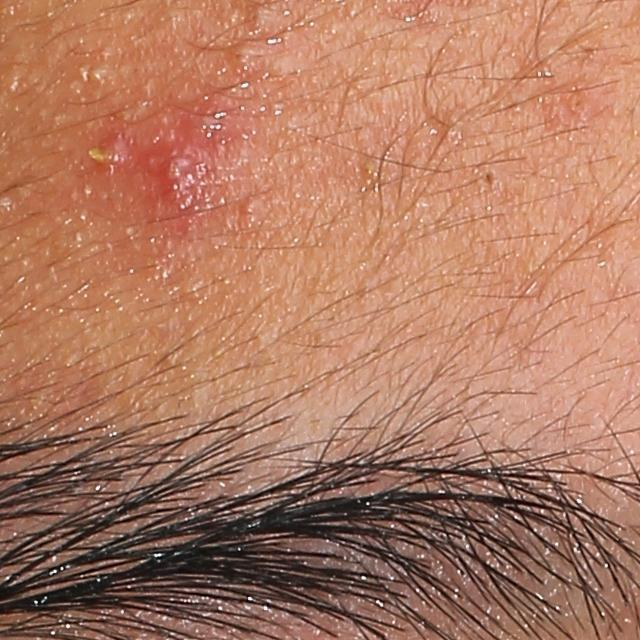comedo: (536, 81, 604, 140), (227, 38, 260, 71), (81, 63, 106, 93), (477, 165, 504, 190), (237, 198, 261, 217)
pustule: (152, 140, 217, 225), (86, 124, 142, 178)
